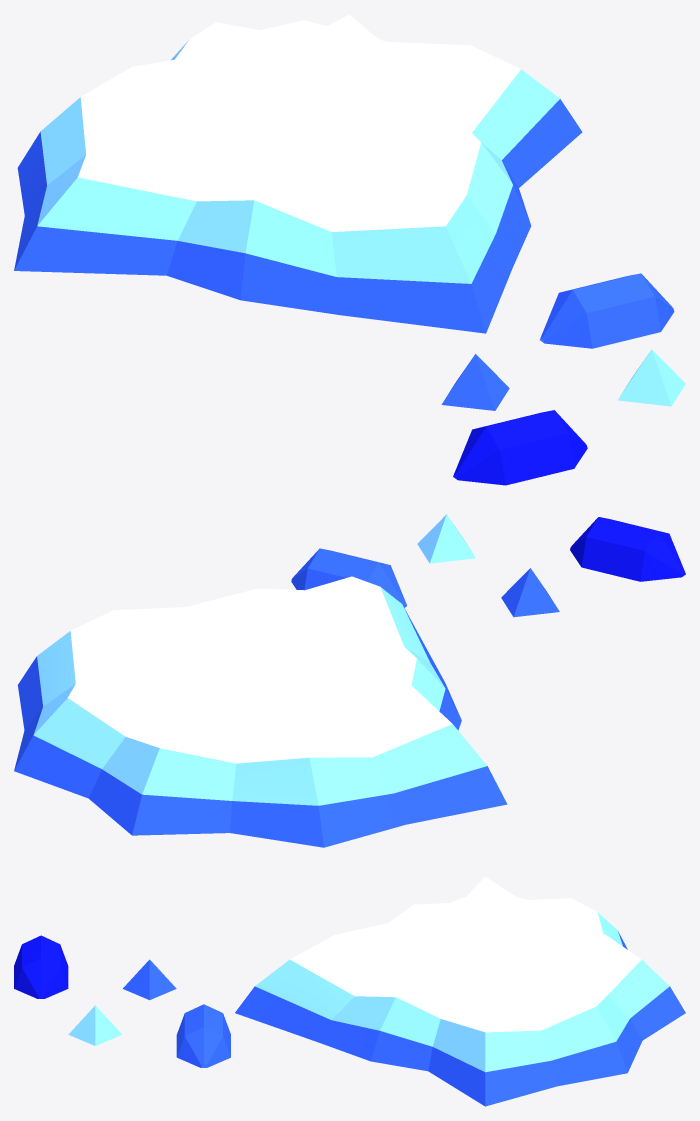
The model's file is shot_ice_142.glb.
3 views of the same model, one above another, from view 1: azimuth 30°, elevation 25°; view 2: azimuth 150°, elevation 25°; view 3: azimuth 270°, elevation 25° (orthographic). The views are drawn at different scales.
Parts seen in each view (by area): view 1: shot_ice_142_cap, shot_ice_142_trail; view 2: shot_ice_142_cap, shot_ice_142_trail; view 3: shot_ice_142_cap, shot_ice_142_trail.
Boxes of the visible parts, left/top/right/bottom form: shot_ice_142_cap: left=14, top=14, right=582, bottom=333; shot_ice_142_trail: left=441, top=273, right=685, bottom=485; shot_ice_142_cap: left=14, top=576, right=507, bottom=847; shot_ice_142_trail: left=291, top=514, right=685, bottom=617; shot_ice_142_cap: left=235, top=876, right=685, bottom=1106; shot_ice_142_trail: left=14, top=935, right=230, bottom=1067.
Bounding box in the file's own units: 8.32 × 2.52 × 12.38.
